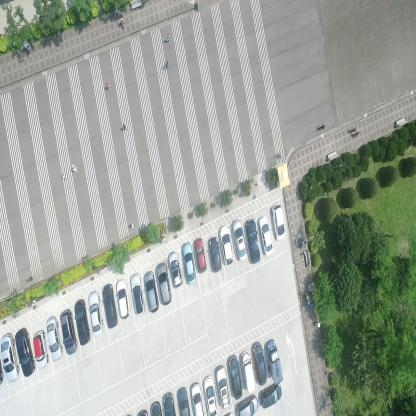car: (14, 328, 36, 377), (0, 335, 20, 384), (73, 298, 91, 346), (59, 309, 77, 357), (45, 315, 63, 362), (267, 338, 284, 386), (101, 282, 118, 329), (251, 339, 268, 386), (245, 216, 261, 264), (257, 213, 274, 258), (87, 289, 103, 336), (231, 216, 247, 262), (156, 260, 172, 306), (129, 272, 145, 317), (32, 328, 50, 368), (240, 348, 256, 393), (219, 224, 235, 268), (215, 364, 231, 408), (144, 270, 160, 312), (115, 279, 131, 321), (203, 373, 219, 415), (260, 380, 282, 410), (228, 353, 242, 400), (182, 242, 196, 286), (192, 235, 206, 275), (208, 235, 222, 273), (272, 203, 285, 243), (168, 250, 182, 287), (190, 381, 205, 415), (236, 393, 258, 415), (177, 386, 191, 415), (162, 392, 176, 415)
